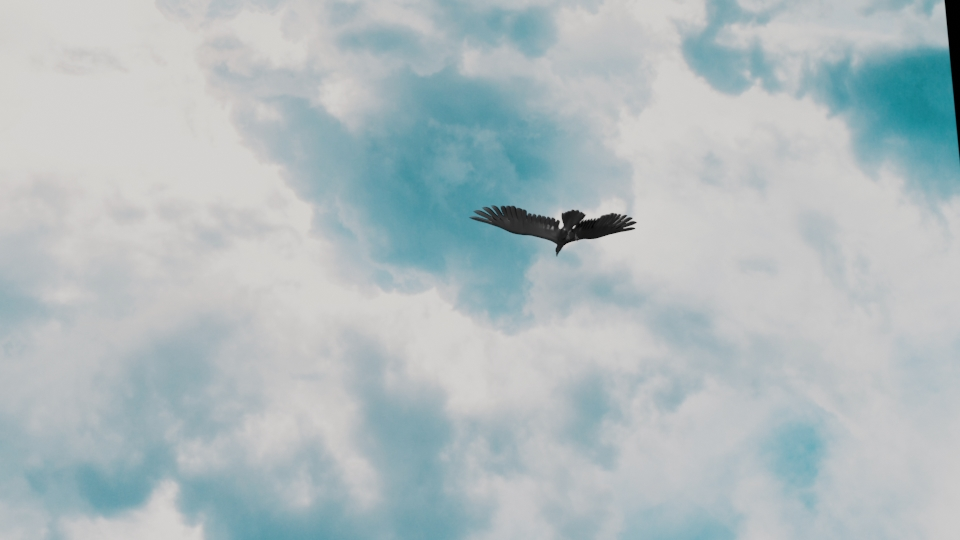bird: (470, 201, 634, 252)
